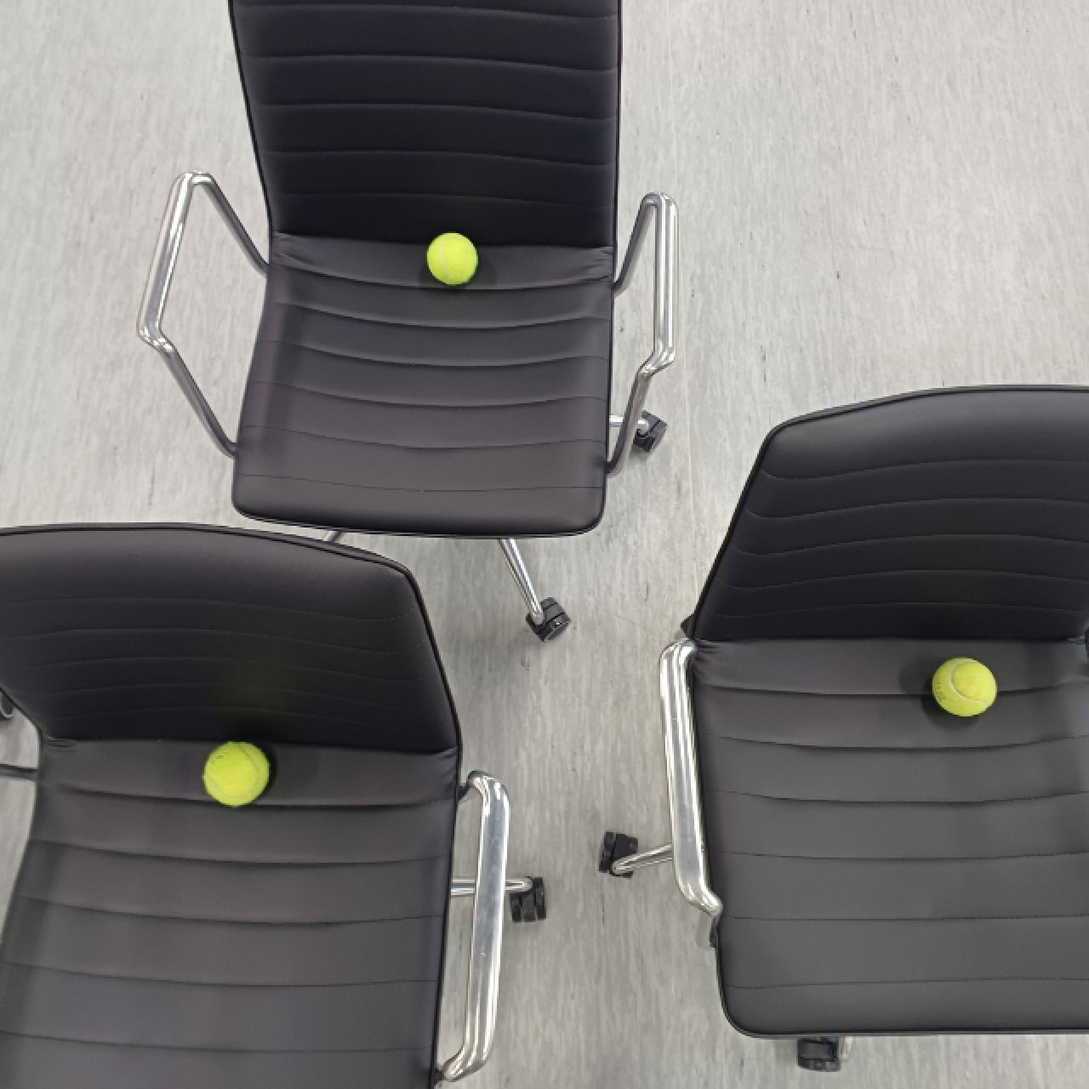tennis-ball: (202, 739, 271, 806), (931, 654, 998, 718), (426, 229, 480, 286)
